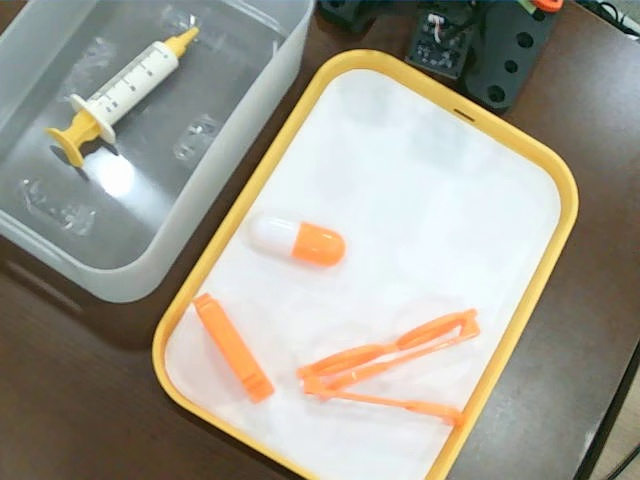pill: (245, 213, 350, 270)
syringe: (51, 24, 198, 167)
